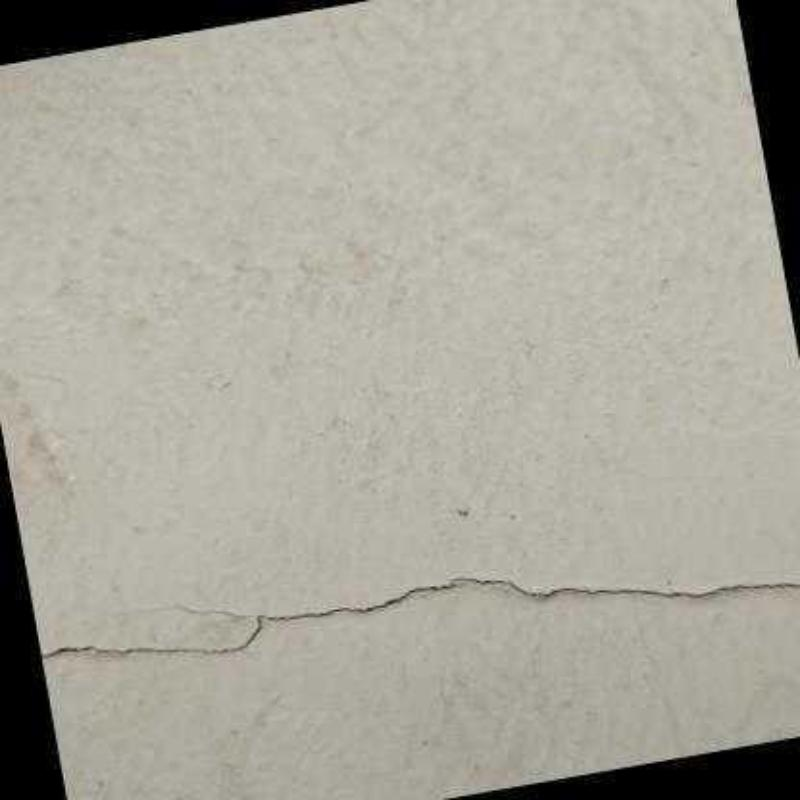pothole: (37, 569, 798, 663)
